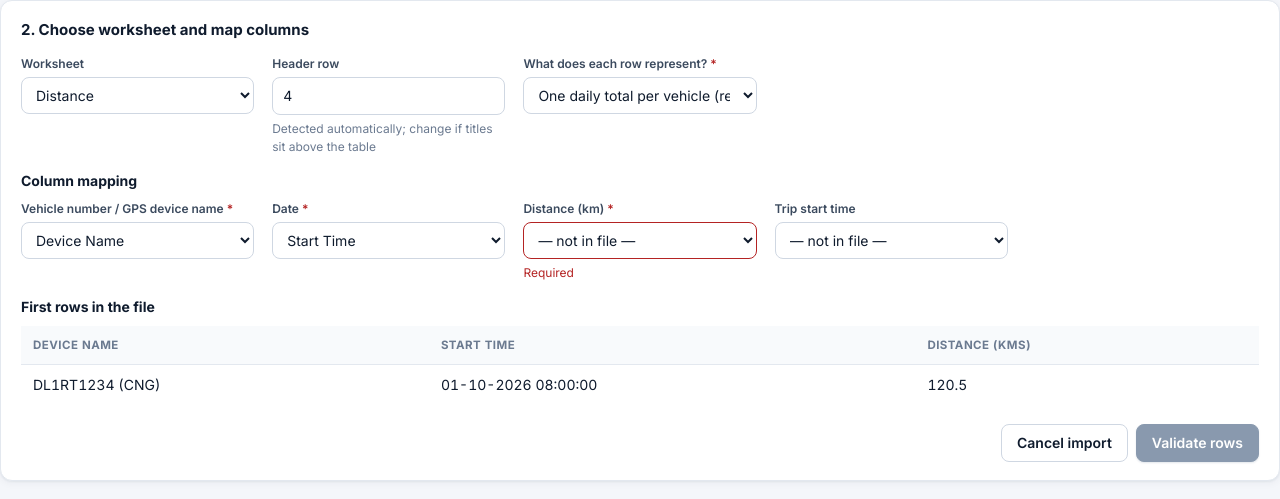
Test: Import mapping step › pre-fills suggested columns and blocks until required fields are mapped
Expected: the dropdown named "Column for Vehicle number / GPS device name" shows "Device Name", [21,222,254,259]
Expected: the button "Validate rows" is disabled, [1136,424,1259,462]
Select "Distance (Kms)" in the dropdown named "Column for Distance (km)" at x=640, y=240, box [523,222,757,259]
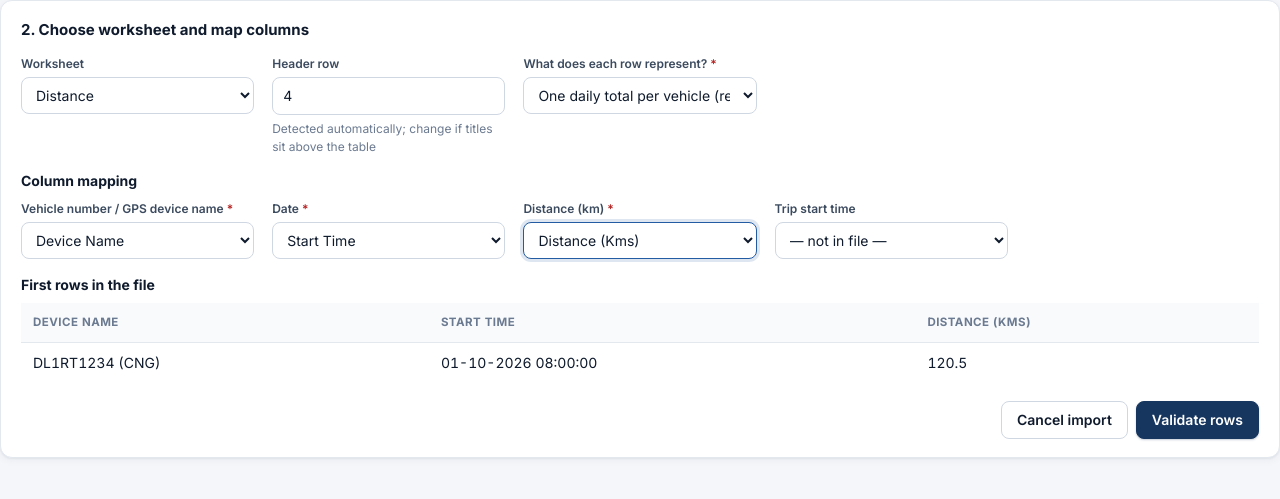
Expected: the text "DL1RT1234 (CNG)" is shown, [21,343,429,383]
Result: the button "Validate rows" is enabled at [1136,401,1259,440]
